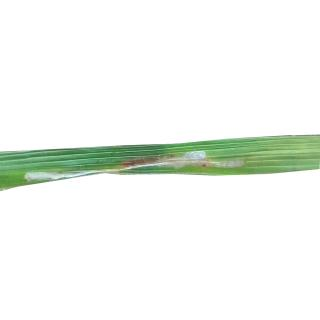Hawar-Daun: (119, 151, 207, 170), (23, 168, 73, 183), (198, 158, 248, 170)
